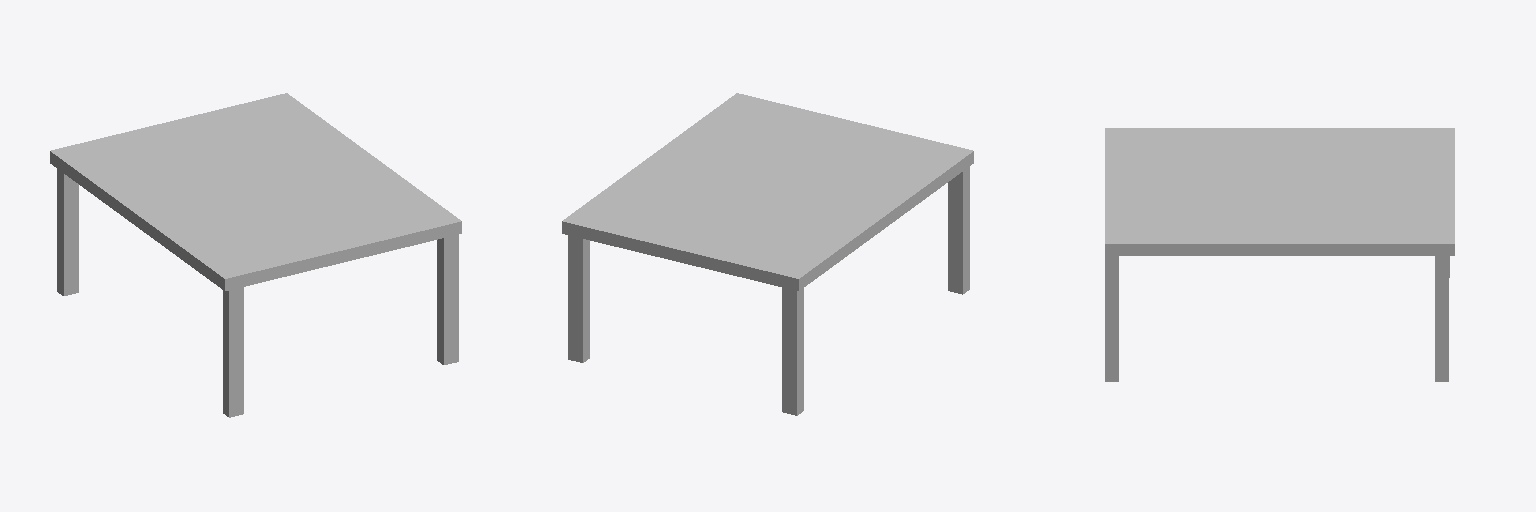
Rendered from hopefullytable.obj.
The picture shows the model from 3 angles: view 1: azimuth 30°, elevation 25°; view 2: azimuth 150°, elevation 25°; view 3: azimuth 270°, elevation 25°; orthographic projection.
Visible parts, largest first — view 1: Cube; view 2: Cube; view 3: Cube.
Boxes of the visible parts, x1=… form: Cube: x1=50, y1=93, x2=461, y2=417; Cube: x1=562, y1=93, x2=973, y2=415; Cube: x1=1105, y1=128, x2=1454, y2=381.
Size of the model in its own units: 8.36 by 4.71 by 10.7.